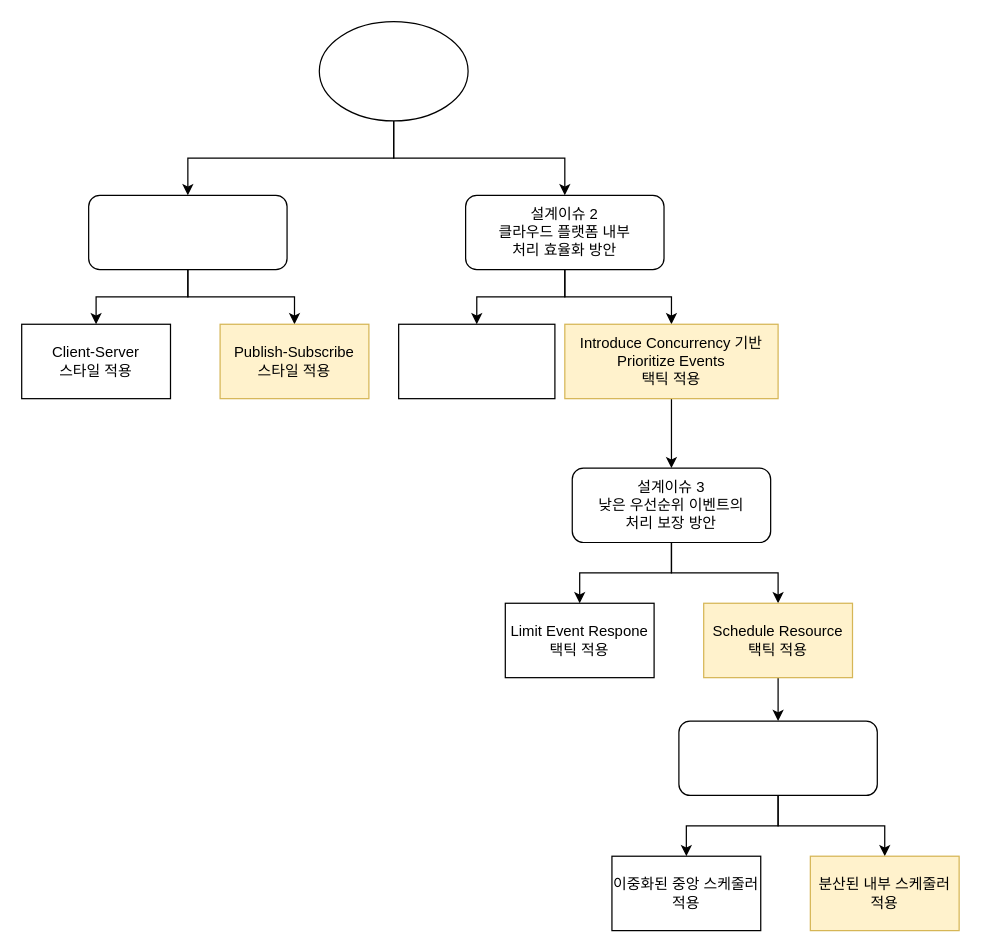
This 981x952 diagram has some shape labels left out. Here are the shapes that lost their labels. From the top down, the centre of each, then its label:
(393,70): QA-01 원격 제어 응답 속도
(187,232): 설계이슈 1 클라우드-홈 게이트웨이 간 통신 최적화 방안
(476,361): Introduce Concurrency 택틱 적용
(777,757): 설계이슈 4 단일 장애점 제거 방안
